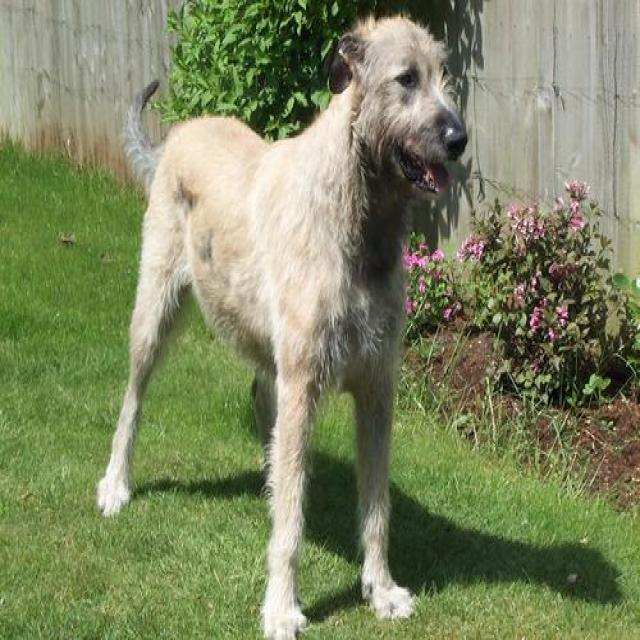irish_wolfhound: (94, 16, 470, 638)
